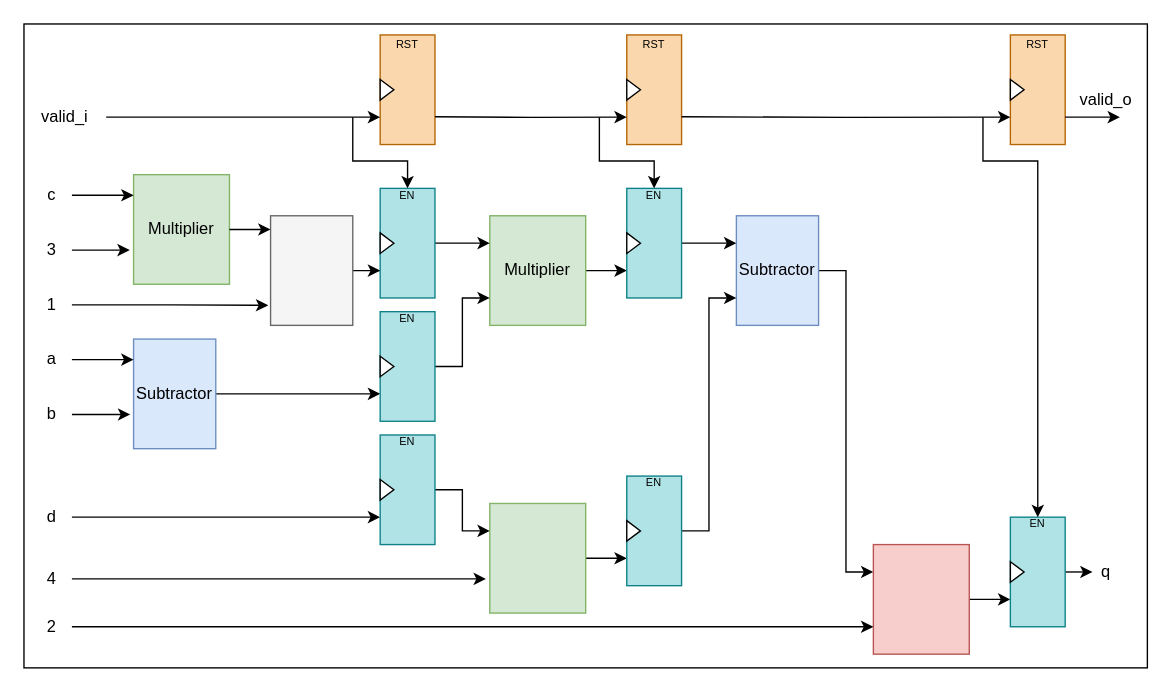
Image size: 1171x692. Some labels were removed from this diagram. Each missing label, with the box of its shape:
Adder: (269, 214, 353, 325)
Divider (realized as arithmetic right shift): (872, 543, 969, 654)
Multiplier (realized as right shift): (488, 502, 586, 613)
